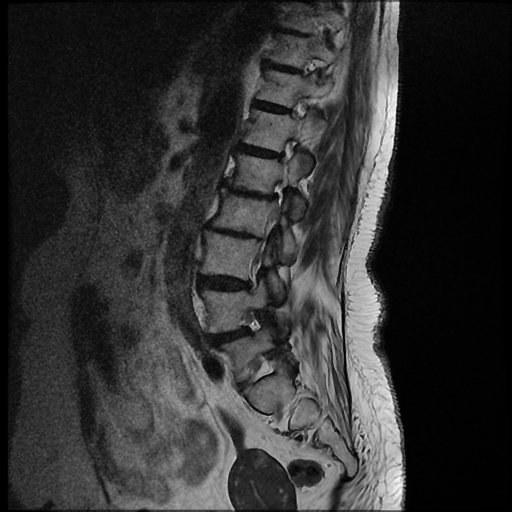LFS2: (228, 302, 271, 346)
